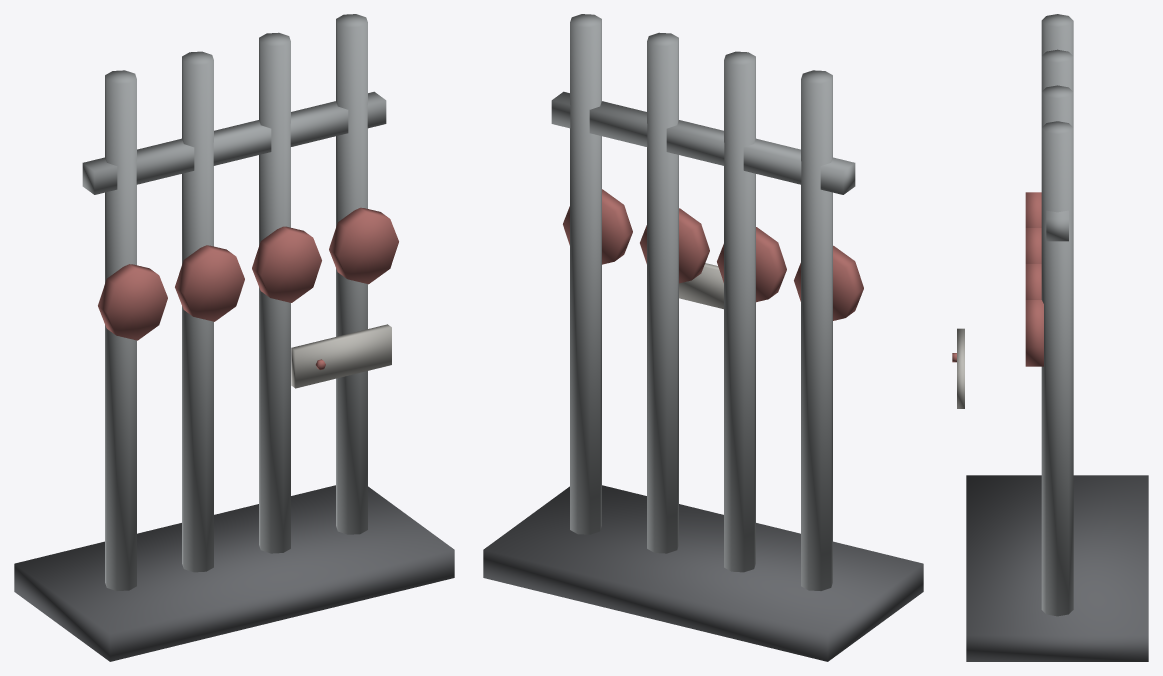
File: sprinkler_riser__compact.glb
The picture shows the model from 3 angles, left to right: view 1: azimuth 30°, elevation 25°; view 2: azimuth 150°, elevation 25°; view 3: azimuth 270°, elevation 25°; orthographic projection. The views are drawn at different scales.
Visible parts, largest first — view 1: world; view 2: world; view 3: world.
Part boxes in pixels (x1,y1,x2,y2): world: [14, 14, 454, 661]; world: [483, 14, 923, 661]; world: [952, 14, 1148, 661].
Bounding box in the file's own units: 0.714 × 1.06 × 0.3707.
